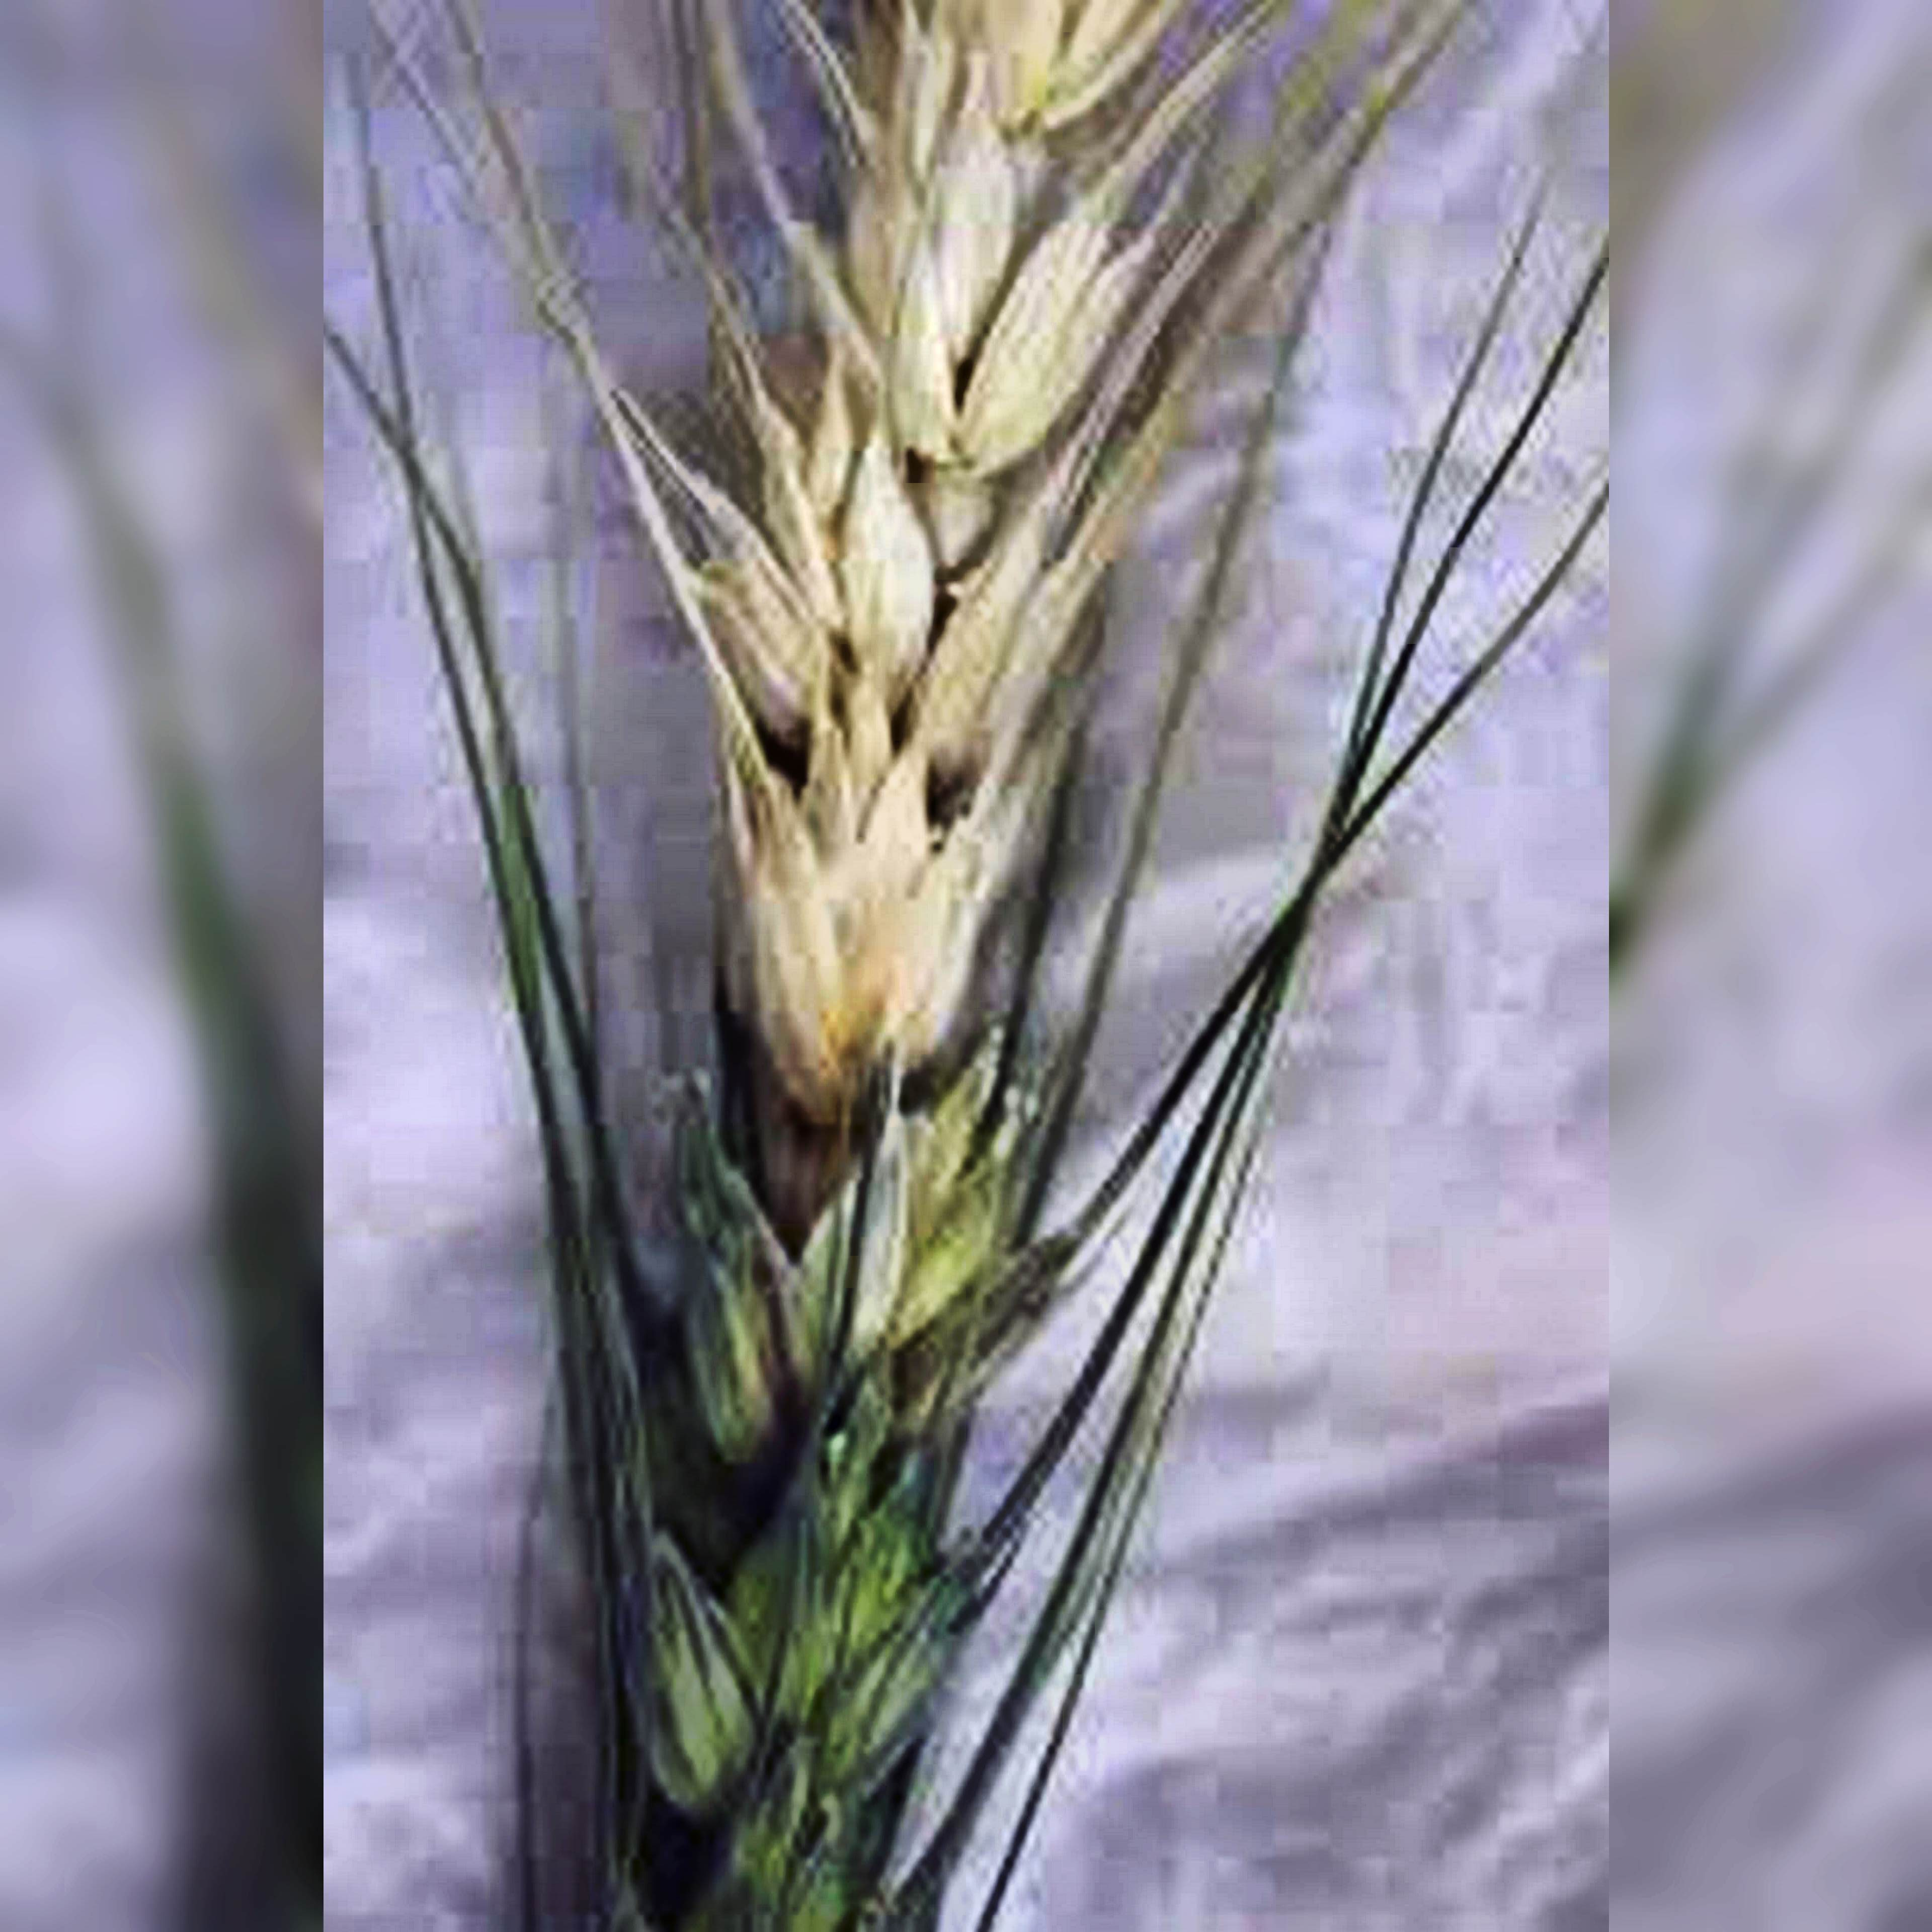Wheat scab: (451, 62, 1177, 1920)
